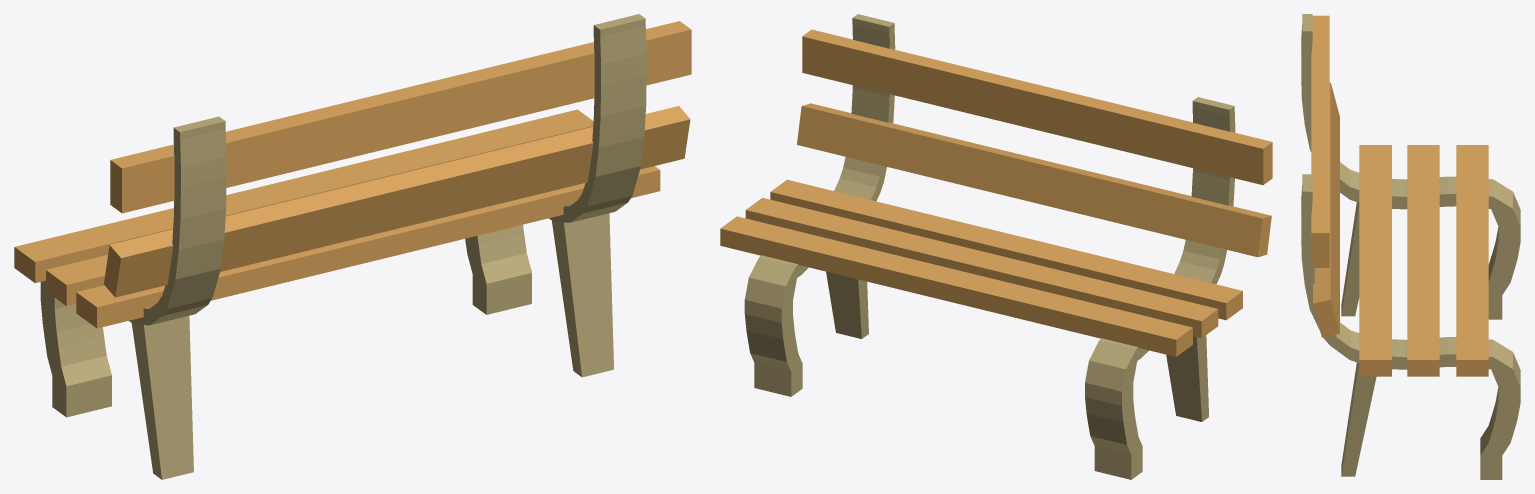
Rendered from Bench.fbx.
The picture shows the model from 3 angles, left to right: view 1: azimuth 30°, elevation 25°; view 2: azimuth 150°, elevation 25°; view 3: azimuth 270°, elevation 25°; orthographic projection. The views are drawn at different scales.
Visible parts, largest first — view 1: Bench_Body6; view 2: Bench_Body6; view 3: Bench_Body6.
Boxes of the visible parts, box(x1,y1,x2,y2) form: Bench_Body6: box(14, 14, 691, 479); Bench_Body6: box(720, 14, 1272, 479); Bench_Body6: box(1301, 14, 1520, 479).
Size of the model in its own units: 8.11 by 5.01 by 3.46.
